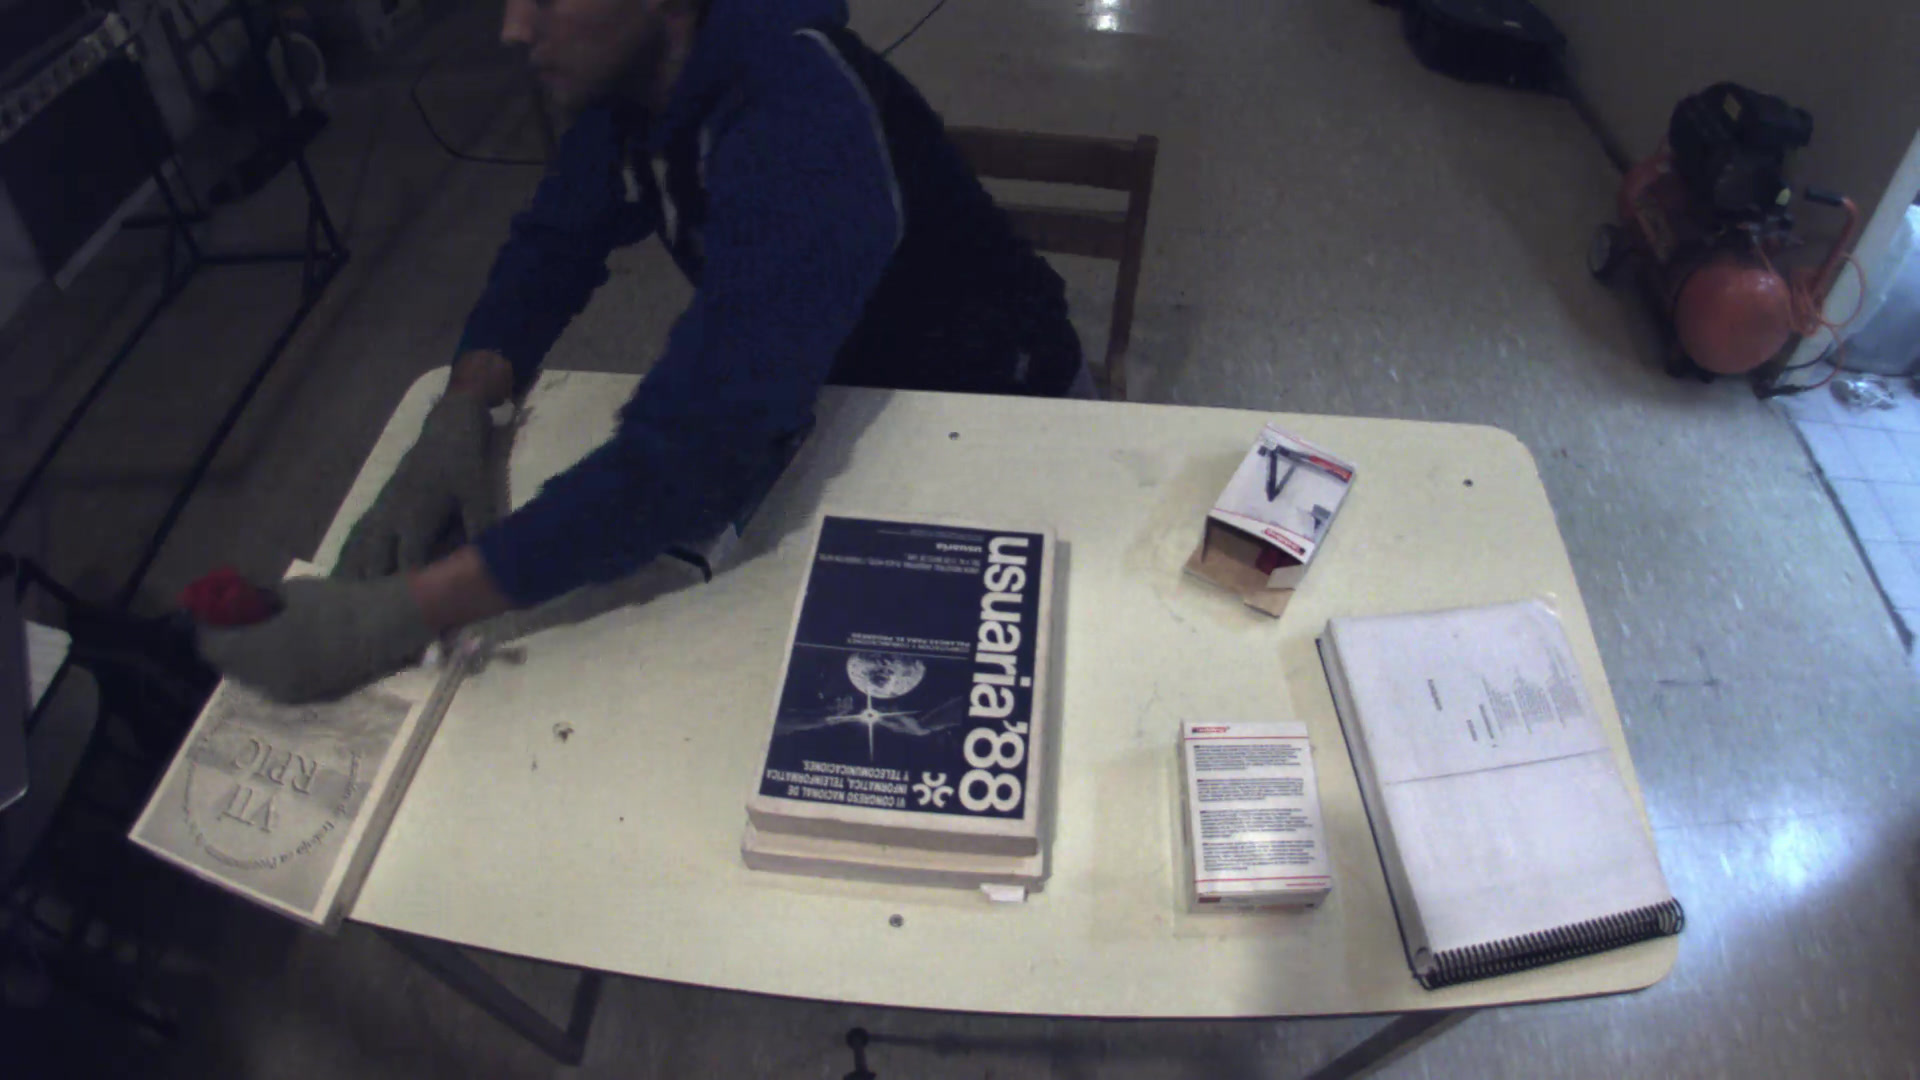hand: (306, 355, 527, 558), (224, 560, 440, 705)
